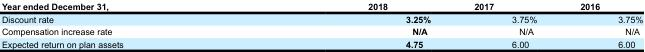table: (0, 0, 642, 48)
table column: (0, 0, 245, 48), (245, 0, 451, 48), (451, 0, 557, 48), (557, 0, 642, 48)
table column header: (0, 0, 642, 12)
table row: (0, 24, 642, 37), (0, 0, 642, 12), (0, 12, 642, 24), (0, 37, 642, 48)
